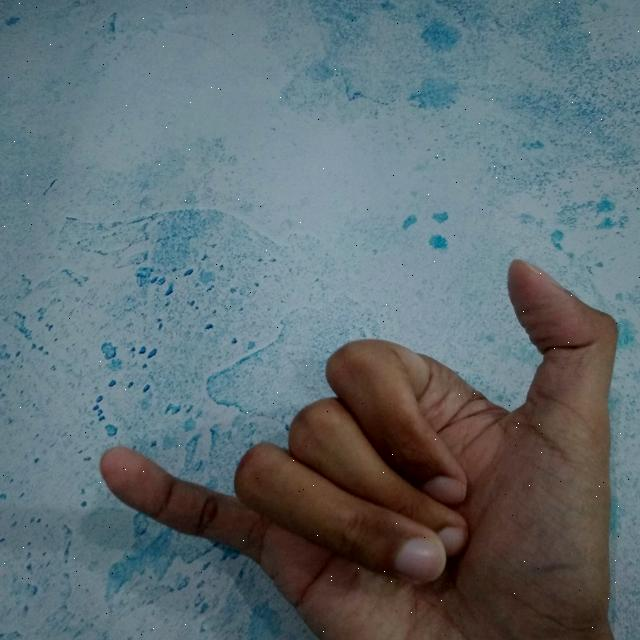Y: (93, 250, 632, 640)
